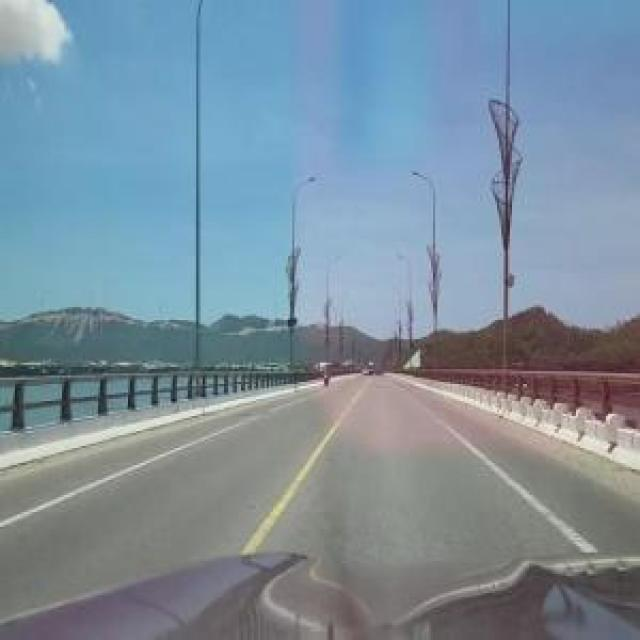clear-road: (0, 378, 640, 620)
